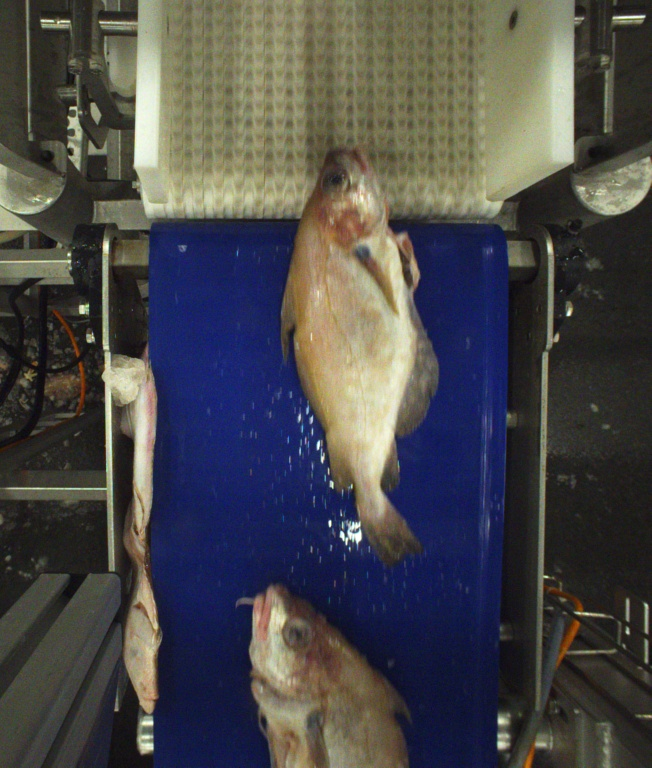BIB: (278, 148, 437, 565)
